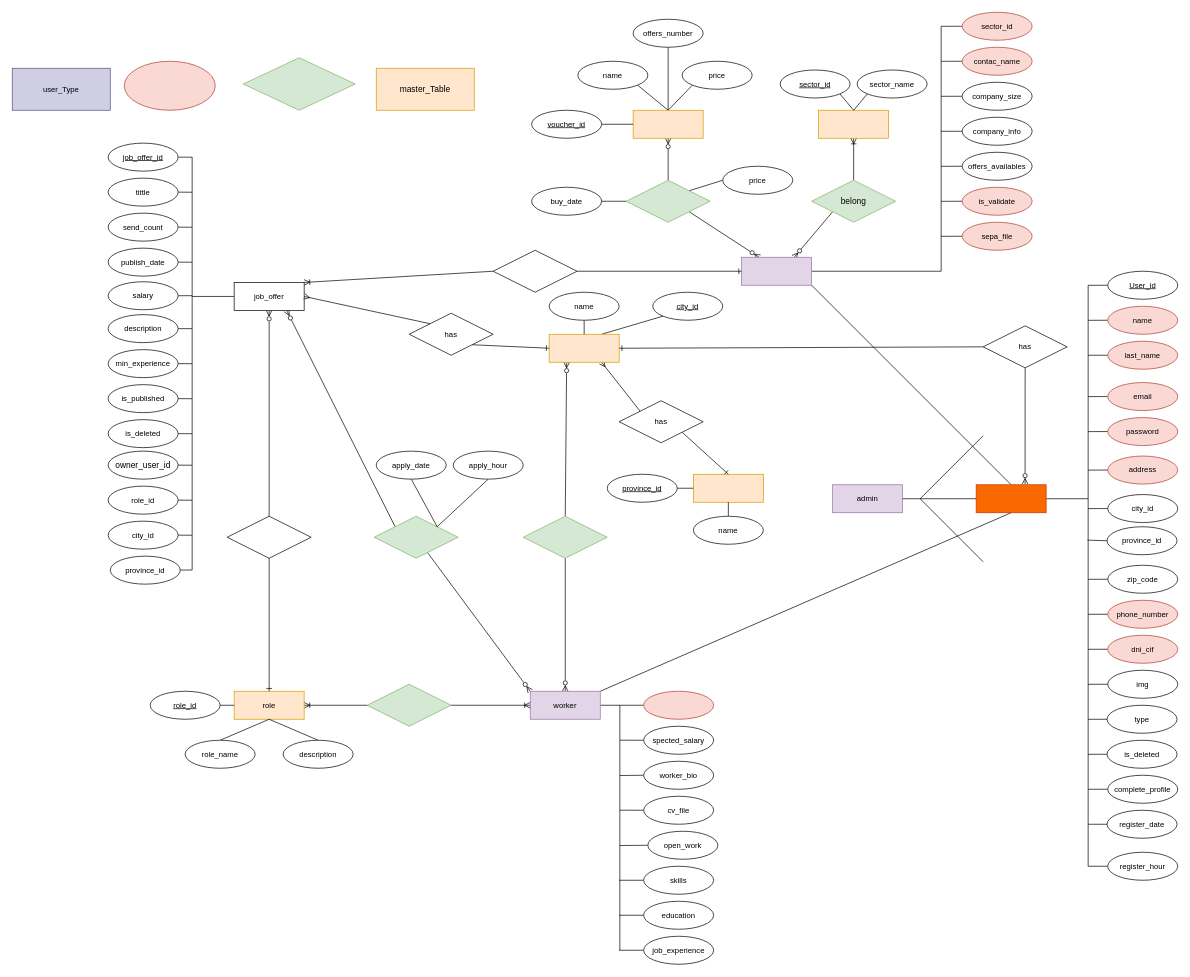
The diagram is 1190 pixels wide and 977 high, and some of its shapes have lost their labels. Each missing label, with the box of its shape:
applies: (373, 516, 458, 558)
buy: (625, 180, 710, 222)
city: (548, 334, 619, 362)
company: (741, 257, 812, 285)
create: (492, 250, 577, 292)
intermediate_Table: (243, 57, 355, 110)
mobility: (523, 516, 607, 558)
need: (226, 516, 311, 558)
perform: (366, 684, 451, 726)
province: (693, 474, 763, 502)
required_Field: (124, 61, 215, 110)
sector: (818, 110, 889, 138)
spected_schdule: (643, 691, 714, 719)
user: (975, 484, 1046, 513)
voucher: (632, 110, 703, 138)
